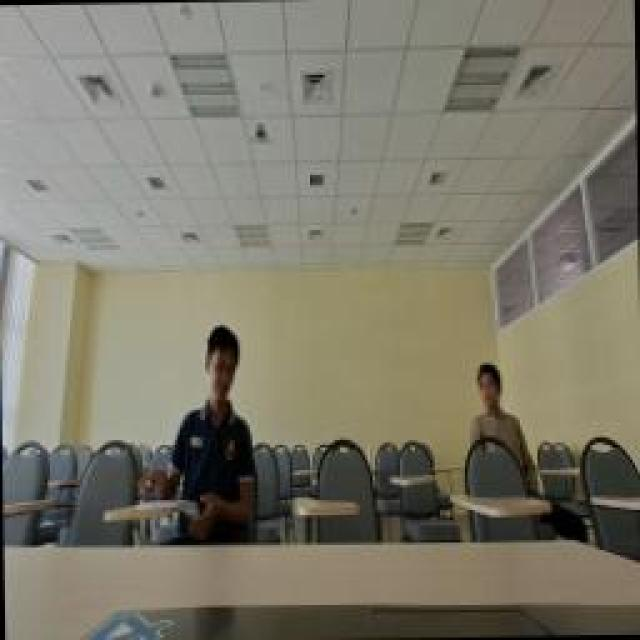study: (172, 323, 258, 545), (468, 360, 528, 512)
